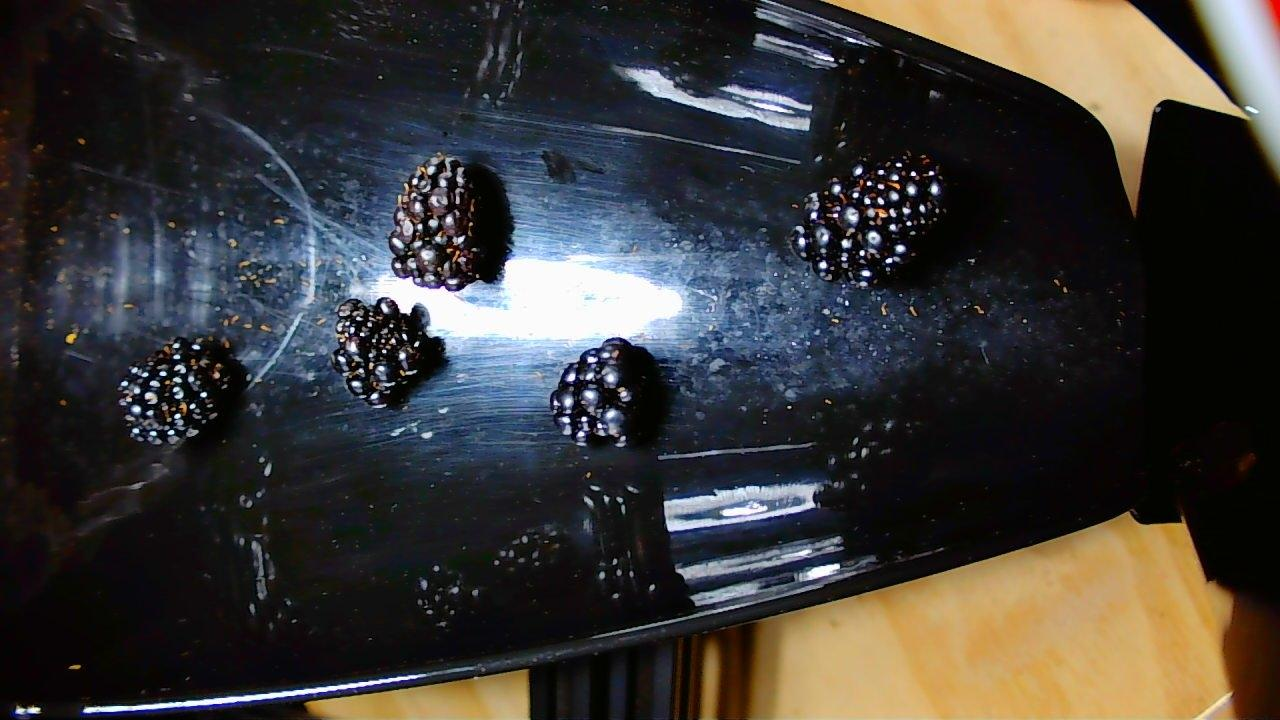berry: (786, 154, 944, 283), (394, 152, 500, 289), (118, 336, 242, 448), (331, 296, 443, 406), (552, 342, 650, 447)
